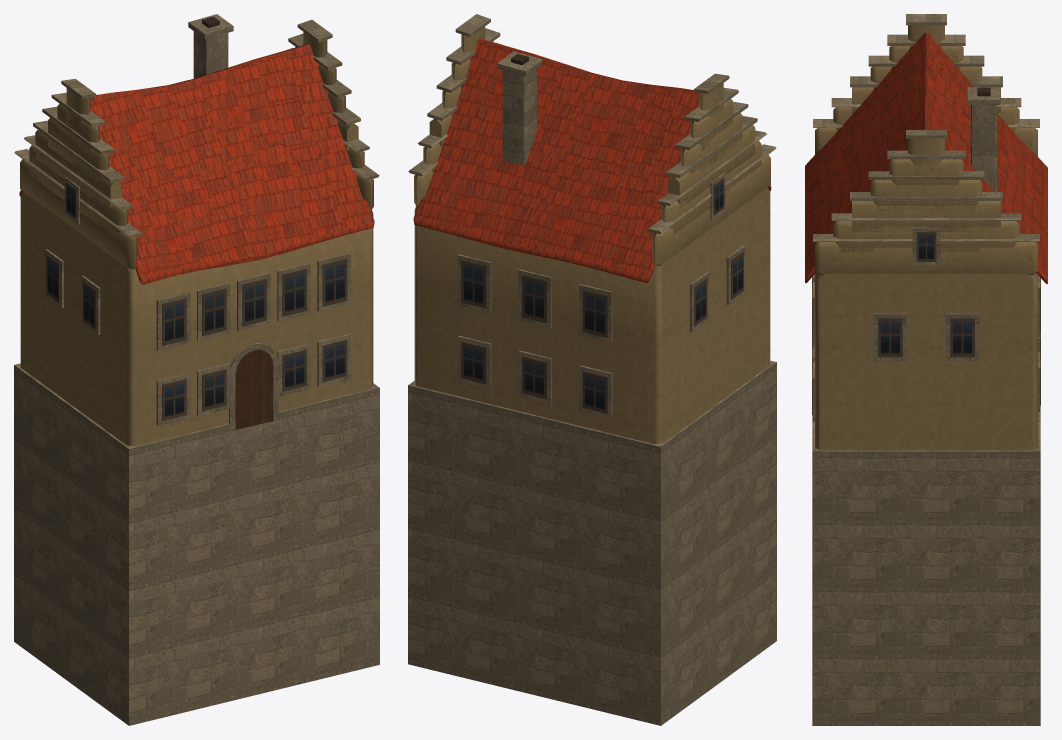
File: townhouse_a.glb
3 renders of one model, left to right at view 1: azimuth 30°, elevation 25°; view 2: azimuth 150°, elevation 25°; view 3: azimuth 270°, elevation 25°, orthographic.
Parts seen in each view (by area): view 1: townhouse_a_export; view 2: townhouse_a_export; view 3: townhouse_a_export.
Boxes of the visible parts, left/top/right/bottom form: townhouse_a_export: left=14, top=14, right=379, bottom=725; townhouse_a_export: left=408, top=14, right=776, bottom=725; townhouse_a_export: left=805, top=14, right=1047, bottom=725.
Bounding box in the file's own units: 18 × 41.08 × 15.17.
5 materials, 5 textured.
